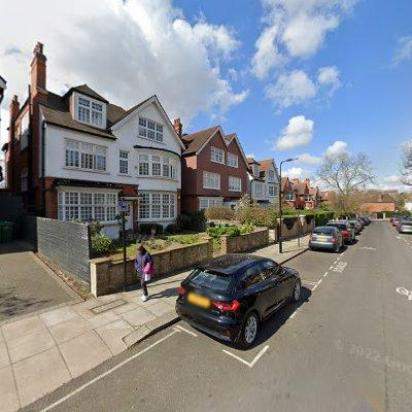stationary-car-onstreet: (174, 252, 304, 350), (308, 225, 346, 252), (326, 221, 356, 243), (346, 220, 360, 234), (397, 221, 411, 233), (350, 218, 364, 228), (358, 217, 370, 225), (392, 217, 402, 226)
